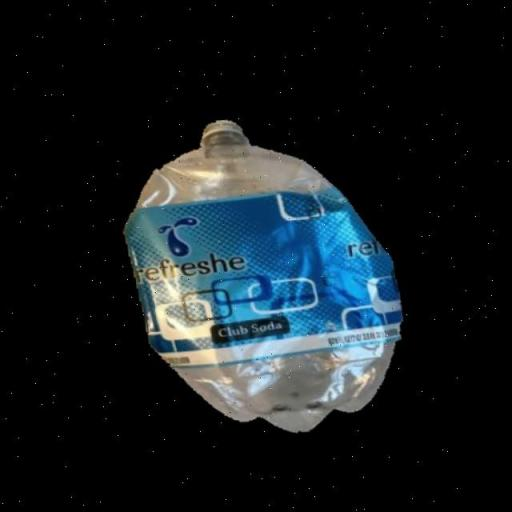plastic: (110, 100, 413, 446)
